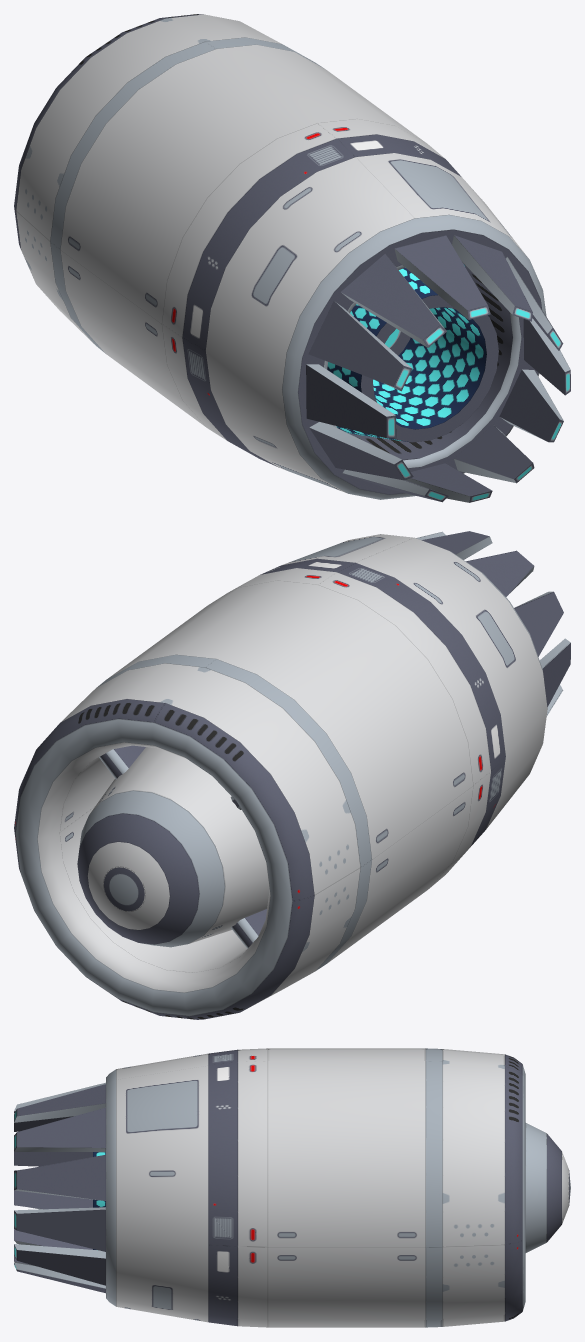
File: Reactor_01.FBX
3 views of the same model, one above another, from view 1: azimuth 30°, elevation 25°; view 2: azimuth 150°, elevation 25°; view 3: azimuth 270°, elevation 25° (orthographic). The views are drawn at different scales.
Visible parts, largest first — view 1: Reactor_01, Turn; view 2: Reactor_01; view 3: Reactor_01.
Part boxes in pixels (x1,y1,x2,y2): Reactor_01: (14,14,570,502); Turn: (327,265,498,442); Reactor_01: (14,531,570,1019); Reactor_01: (14,1048,570,1327).
Bounding box in the file's own units: 6.67 × 6.67 × 13.26.
